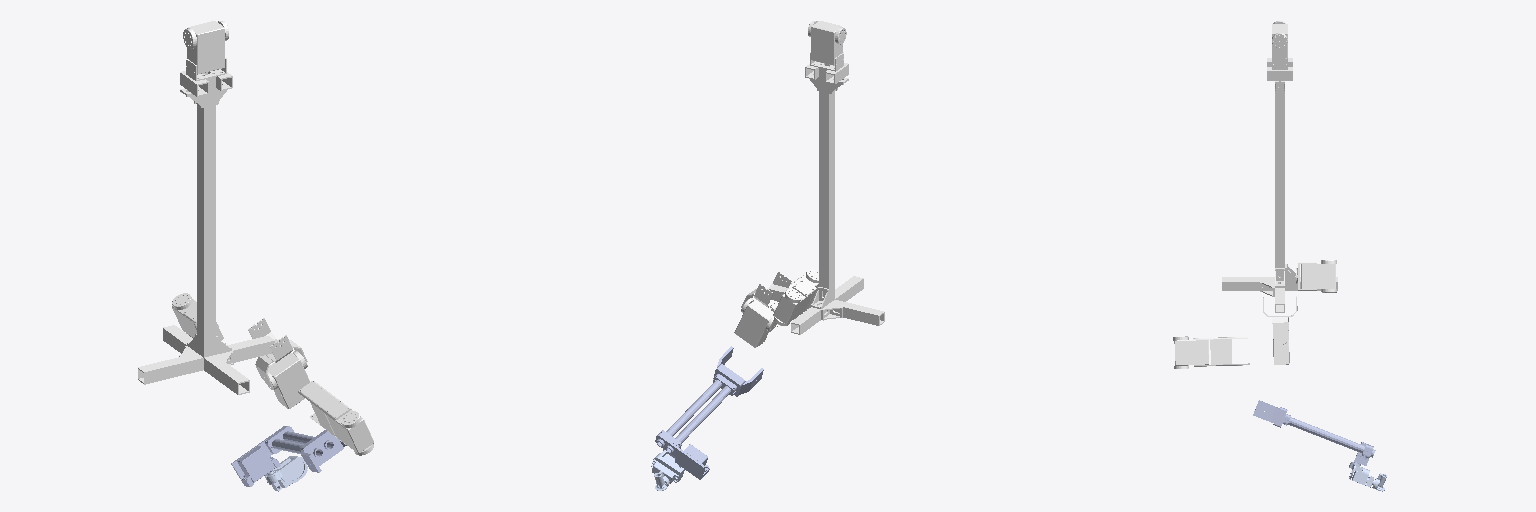
robot.urdf — asem - 副本 - 副本.SLDASM:
<?xml version="1.0" encoding="utf-8"?>
<!-- This URDF was automatically created by SolidWorks to URDF Exporter! Originally created by Stephen Brawner (brawner@gmail.com) 
     Commit Version: 1.6.0-4-g7f85cfe  Build Version: 1.6.7995.38578
     For more information, please see http://wiki.ros.org/sw_urdf_exporter -->
<robot
  name="asem - 副本 - 副本.SLDASM">
  <link
    name="base_link">
    <inertial>
      <origin
        xyz="0.0240650686627074 1.72479612318387E-05 0.0183009805963007"
        rpy="0 0 0" />
      <mass
        value="0.107811485994374" />
      <inertia
        ixx="6.39922118603222E-05"
        ixy="-5.85741482187105E-18"
        ixz="-3.00036332160916E-20"
        iyy="4.48889952433092E-05"
        iyz="-3.17736108216768E-08"
        izz="3.46982954267429E-05" />
    </inertial>
    <visual>
      <origin
        xyz="0 0 0"
        rpy="0 0 0" />
      <geometry>
        <mesh
          filename="package://asem - 副本 - 副本.SLDASM/meshes/base_link.STL" />
      </geometry>
      <material
        name="">
        <color
          rgba="1 1 1 1" />
      </material>
    </visual>
    <collision>
      <origin
        xyz="0 0 0"
        rpy="0 0 0" />
      <geometry>
        <mesh
          filename="package://asem - 副本 - 副本.SLDASM/meshes/base_link.STL" />
      </geometry>
    </collision>
  </link>
  <link
    name="link1">
    <inertial>
      <origin
        xyz="0.064401877048897 0.0173458500286237 -5.00000336023628E-05"
        rpy="0 0 0" />
      <mass
        value="0.113257206808635" />
      <inertia
        ixx="5.00580532788819E-05"
        ixy="3.31270975920516E-08"
        ixz="2.77450597545773E-20"
        iyy="3.81316076196852E-05"
        iyz="-2.10877833229695E-17"
        izz="6.29828496083825E-05" />
    </inertial>
    <visual>
      <origin
        xyz="0 0 0"
        rpy="0 0 0" />
      <geometry>
        <mesh
          filename="package://asem - 副本 - 副本.SLDASM/meshes/link1.STL" />
      </geometry>
      <material
        name="">
        <color
          rgba="1 1 1 1" />
      </material>
    </visual>
    <collision>
      <origin
        xyz="0 0 0"
        rpy="0 0 0" />
      <geometry>
        <mesh
          filename="package://asem - 副本 - 副本.SLDASM/meshes/link1.STL" />
      </geometry>
    </collision>
  </link>
  <joint
    name="j1"
    type="revolute">
    <origin
      xyz="0.025 0 0.038"
      rpy="-1.5708 -0.41733 0" />
    <parent
      link="base_link" />
    <child
      link="link1" />
    <axis
      xyz="0 0 -1" />
    <limit
      lower="0"
      upper="0"
      effort="0"
      velocity="0" />
  </joint>
  <link
    name="link2">
    <inertial>
      <origin
        xyz="0.0631739441903987 -0.00025868956825363 -0.0166237377768434"
        rpy="0 0 0" />
      <mass
        value="0.118163172663695" />
      <inertia
        ixx="5.00939012874629E-05"
        ixy="-4.15819953737389E-10"
        ixz="-3.31244874029625E-08"
        iyy="6.30206573248214E-05"
        iyz="-3.11920139774171E-07"
        izz="3.81772467847876E-05" />
    </inertial>
    <visual>
      <origin
        xyz="0 0 0"
        rpy="0 0 0" />
      <geometry>
        <mesh
          filename="package://asem - 副本 - 副本.SLDASM/meshes/link2.STL" />
      </geometry>
      <material
        name="">
        <color
          rgba="1 1 1 1" />
      </material>
    </visual>
    <collision>
      <origin
        xyz="0 0 0"
        rpy="0 0 0" />
      <geometry>
        <mesh
          filename="package://asem - 副本 - 副本.SLDASM/meshes/link2.STL" />
      </geometry>
    </collision>
  </link>
  <joint
    name="j2"
    type="revolute">
    <origin
      xyz="0.068 0.038 -5E-05"
      rpy="0.012553 -0.028317 1.5708" />
    <parent
      link="link1" />
    <child
      link="link2" />
    <axis
      xyz="0 -0.99992 0.012552" />
    <limit
      lower="0"
      upper="0"
      effort="0"
      velocity="0" />
  </joint>
  <link
    name="link3">
    <inertial>
      <origin
        xyz="-0.0012426881887944 -0.000744372873964782 0.057547140599802"
        rpy="0 0 0" />
      <mass
        value="0.246795463404935" />
      <inertia
        ixx="0.000154602543934696"
        ixy="-2.39009478925561E-16"
        ixz="-1.05266925344159E-16"
        iyy="0.000115174252362191"
        iyz="3.17736173952231E-08"
        izz="8.44201806963145E-05" />
    </inertial>
    <visual>
      <origin
        xyz="0 0 0"
        rpy="0 0 0" />
      <geometry>
        <mesh
          filename="package://asem - 副本 - 副本.SLDASM/meshes/link3.STL" />
      </geometry>
      <material
        name="">
        <color
          rgba="1 1 1 1" />
      </material>
    </visual>
    <collision>
      <origin
        xyz="0 0 0"
        rpy="0 0 0" />
      <geometry>
        <mesh
          filename="package://asem - 副本 - 副本.SLDASM/meshes/link3.STL" />
      </geometry>
    </collision>
  </link>
  <joint
    name="j3"
    type="revolute">
    <origin
      xyz="0.1008 -0.00052699 -0.037996"
      rpy="-1.5708 1.5582 -1.5708" />
    <parent
      link="link2" />
    <child
      link="link3" />
    <axis
      xyz="0 0 -1" />
    <limit
      lower="0"
      upper="0"
      effort="0"
      velocity="0" />
  </joint>
  <link
    name="link4">
    <inertial>
      <origin
        xyz="0.122385886998288 -0.00229044331036596 -0.0141484454433516"
        rpy="0 0 0" />
      <mass
        value="0.163556224225247" />
      <inertia
        ixx="6.29302701712524E-05"
        ixy="-3.13462349798409E-07"
        ixz="6.14359344032458E-07"
        iyy="0.000291780439588264"
        iyz="-3.32759965497468E-06"
        izz="0.000254109439957613" />
    </inertial>
    <visual>
      <origin
        xyz="0 0 0"
        rpy="0 0 0" />
      <geometry>
        <mesh
          filename="package://asem - 副本 - 副本.SLDASM/meshes/link4.STL" />
      </geometry>
      <material
        name="">
        <color
          rgba="0.792156862745098 0.819607843137255 0.933333333333333 1" />
      </material>
    </visual>
    <collision>
      <origin
        xyz="0 0 0"
        rpy="0 0 0" />
      <geometry>
        <mesh
          filename="package://asem - 副本 - 副本.SLDASM/meshes/link4.STL" />
      </geometry>
    </collision>
  </link>
  <joint
    name="j4"
    type="revolute">
    <origin
      xyz="-0.003 0 0.115"
      rpy="-1.5708 -0.40102 -3.1416" />
    <parent
      link="link3" />
    <child
      link="link4" />
    <axis
      xyz="0 0 1" />
    <limit
      lower="0"
      upper="0"
      effort="0"
      velocity="0" />
  </joint>
  <link
    name="link5">
    <inertial>
      <origin
        xyz="0.0179889865068534 0.0251621913308185 0.0151734733528332"
        rpy="0 0 0" />
      <mass
        value="0.0476823775277873" />
      <inertia
        ixx="1.22219476651976E-05"
        ixy="-6.08998504565414E-07"
        ixz="-2.41236277290692E-07"
        iyy="7.43738676045494E-06"
        iyz="-3.51170406761274E-07"
        izz="1.58478443053188E-05" />
    </inertial>
    <visual>
      <origin
        xyz="0 0 0"
        rpy="0 0 0" />
      <geometry>
        <mesh
          filename="package://asem - 副本 - 副本.SLDASM/meshes/link5.STL" />
      </geometry>
      <material
        name="">
        <color
          rgba="0.866666666666667 0.909803921568627 1 1" />
      </material>
    </visual>
    <collision>
      <origin
        xyz="0 0 0"
        rpy="0 0 0" />
      <geometry>
        <mesh
          filename="package://asem - 副本 - 副本.SLDASM/meshes/link5.STL" />
      </geometry>
    </collision>
  </link>
  <joint
    name="j5"
    type="revolute">
    <origin
      xyz="0.19792 -0.032656 -0.042478"
      rpy="1.5708 0.040921 0" />
    <parent
      link="link4" />
    <child
      link="link5" />
    <axis
      xyz="0 0 -1" />
    <limit
      lower="0"
      upper="0"
      effort="0"
      velocity="0" />
  </joint>
  <link
    name="link6">
    <inertial>
      <origin
        xyz="0.00415984762981583 4.28823604542439E-08 0.00454110755382897"
        rpy="0 0 0" />
      <mass
        value="0.00696190953047027" />
      <inertia
        ixx="2.90568170011603E-07"
        ixy="-9.38992791877719E-13"
        ixz="-1.05631866299746E-08"
        iyy="5.11210452241617E-07"
        iyz="-1.61472912042384E-12"
        izz="5.77766721056451E-07" />
    </inertial>
    <visual>
      <origin
        xyz="0 0 0"
        rpy="0 0 0" />
      <geometry>
        <mesh
          filename="package://asem - 副本 - 副本.SLDASM/meshes/link6.STL" />
      </geometry>
      <material
        name="">
        <color
          rgba="0.866666666666667 0.909803921568627 1 1" />
      </material>
    </visual>
    <collision>
      <origin
        xyz="0 0 0"
        rpy="0 0 0" />
      <geometry>
        <mesh
          filename="package://asem - 副本 - 副本.SLDASM/meshes/link6.STL" />
      </geometry>
    </collision>
  </link>
  <joint
    name="j6"
    type="revolute">
    <origin
      xyz="0.047475 0.017975 0.019425"
      rpy="1.5708 1.1588 1.5708" />
    <parent
      link="link5" />
    <child
      link="link6" />
    <axis
      xyz="0 0 -1" />
    <limit
      lower="0"
      upper="0"
      effort="0"
      velocity="0" />
  </joint>
</robot>

--- Facts derived from the render (not from the file) ---
Views: 3 orthographic renders of the robot side by side, from view 1: azimuth 30°, elevation 25°; view 2: azimuth 150°, elevation 25°; view 3: azimuth 270°, elevation 25°.
Robot: asem - 副本 - 副本.SLDASM — 7 links, 6 joints (6 revolute); root link base_link; default pose: all joints at 0.
Links seen in each view (by area): view 1: base_link, link4, link2, link3, link5, link1; view 2: base_link, link4, link2, link1, link5; view 3: base_link, link3, link4, link1, link2.
Boxes of the visible links, x1,y1,x2,y2 form: base_link: [138, 21, 274, 394]; link4: [231, 426, 346, 486]; link2: [248, 318, 309, 408]; link3: [298, 381, 373, 455]; link5: [265, 456, 307, 491]; link1: [172, 293, 223, 340]; base_link: [769, 21, 884, 334]; link4: [655, 346, 763, 479]; link2: [734, 271, 791, 347]; link1: [773, 279, 816, 325]; link5: [651, 448, 684, 483]; base_link: [1222, 21, 1337, 312]; link3: [1173, 336, 1249, 368]; link4: [1253, 400, 1375, 465]; link1: [1296, 260, 1336, 292]; link2: [1263, 296, 1297, 364].
Size in the robot's own frame: 0.368 by 0.4072 by 0.8656 metres.
Meshes: 7 distinct files referenced, 7 mesh visuals loaded (7 binary STL).
